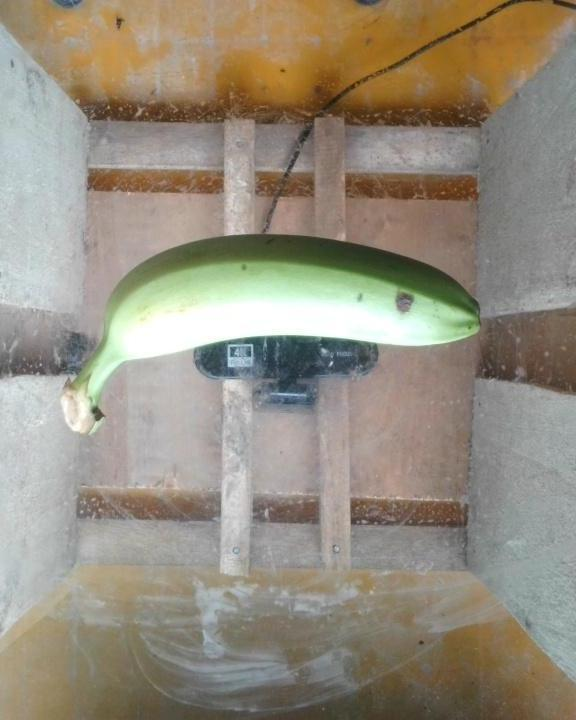CLASS B: (57, 229, 496, 437)
Class A: (356, 281, 422, 326)
